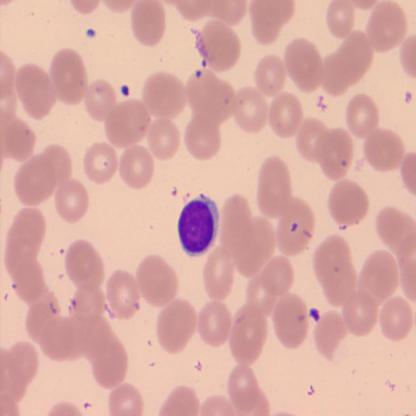Lymphocyte: (176, 191, 220, 258)
